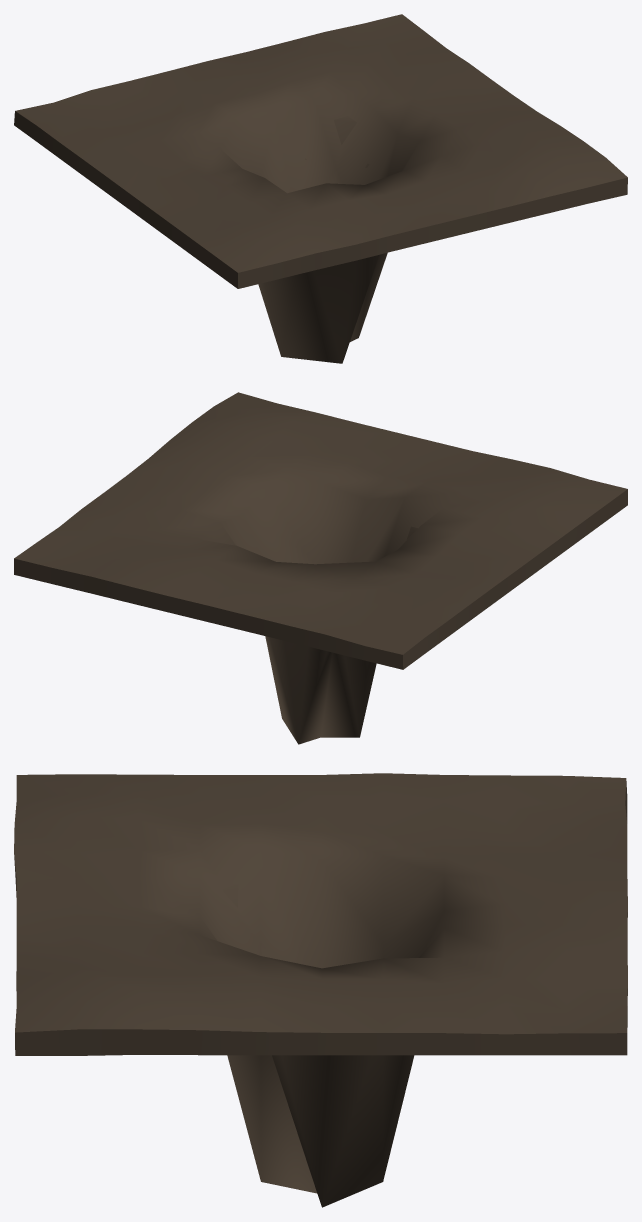
Rendered from Floor_Hole.fbx.
The picture shows the model from 3 angles, top to bottom: view 1: azimuth 30°, elevation 25°; view 2: azimuth 150°, elevation 25°; view 3: azimuth 270°, elevation 25°; orthographic projection. The views are drawn at different scales.
Parts seen in each view (by area): view 1: Floor_Hole; view 2: Floor_Hole; view 3: Floor_Hole.
Part boxes in pixels (<box>): Floor_Hole: <box>14,14,627,363</box>; Floor_Hole: <box>14,392,627,744</box>; Floor_Hole: <box>14,773,627,1207</box>.
Size of the model in its own units: 50.38 by 27.68 by 50.26.
